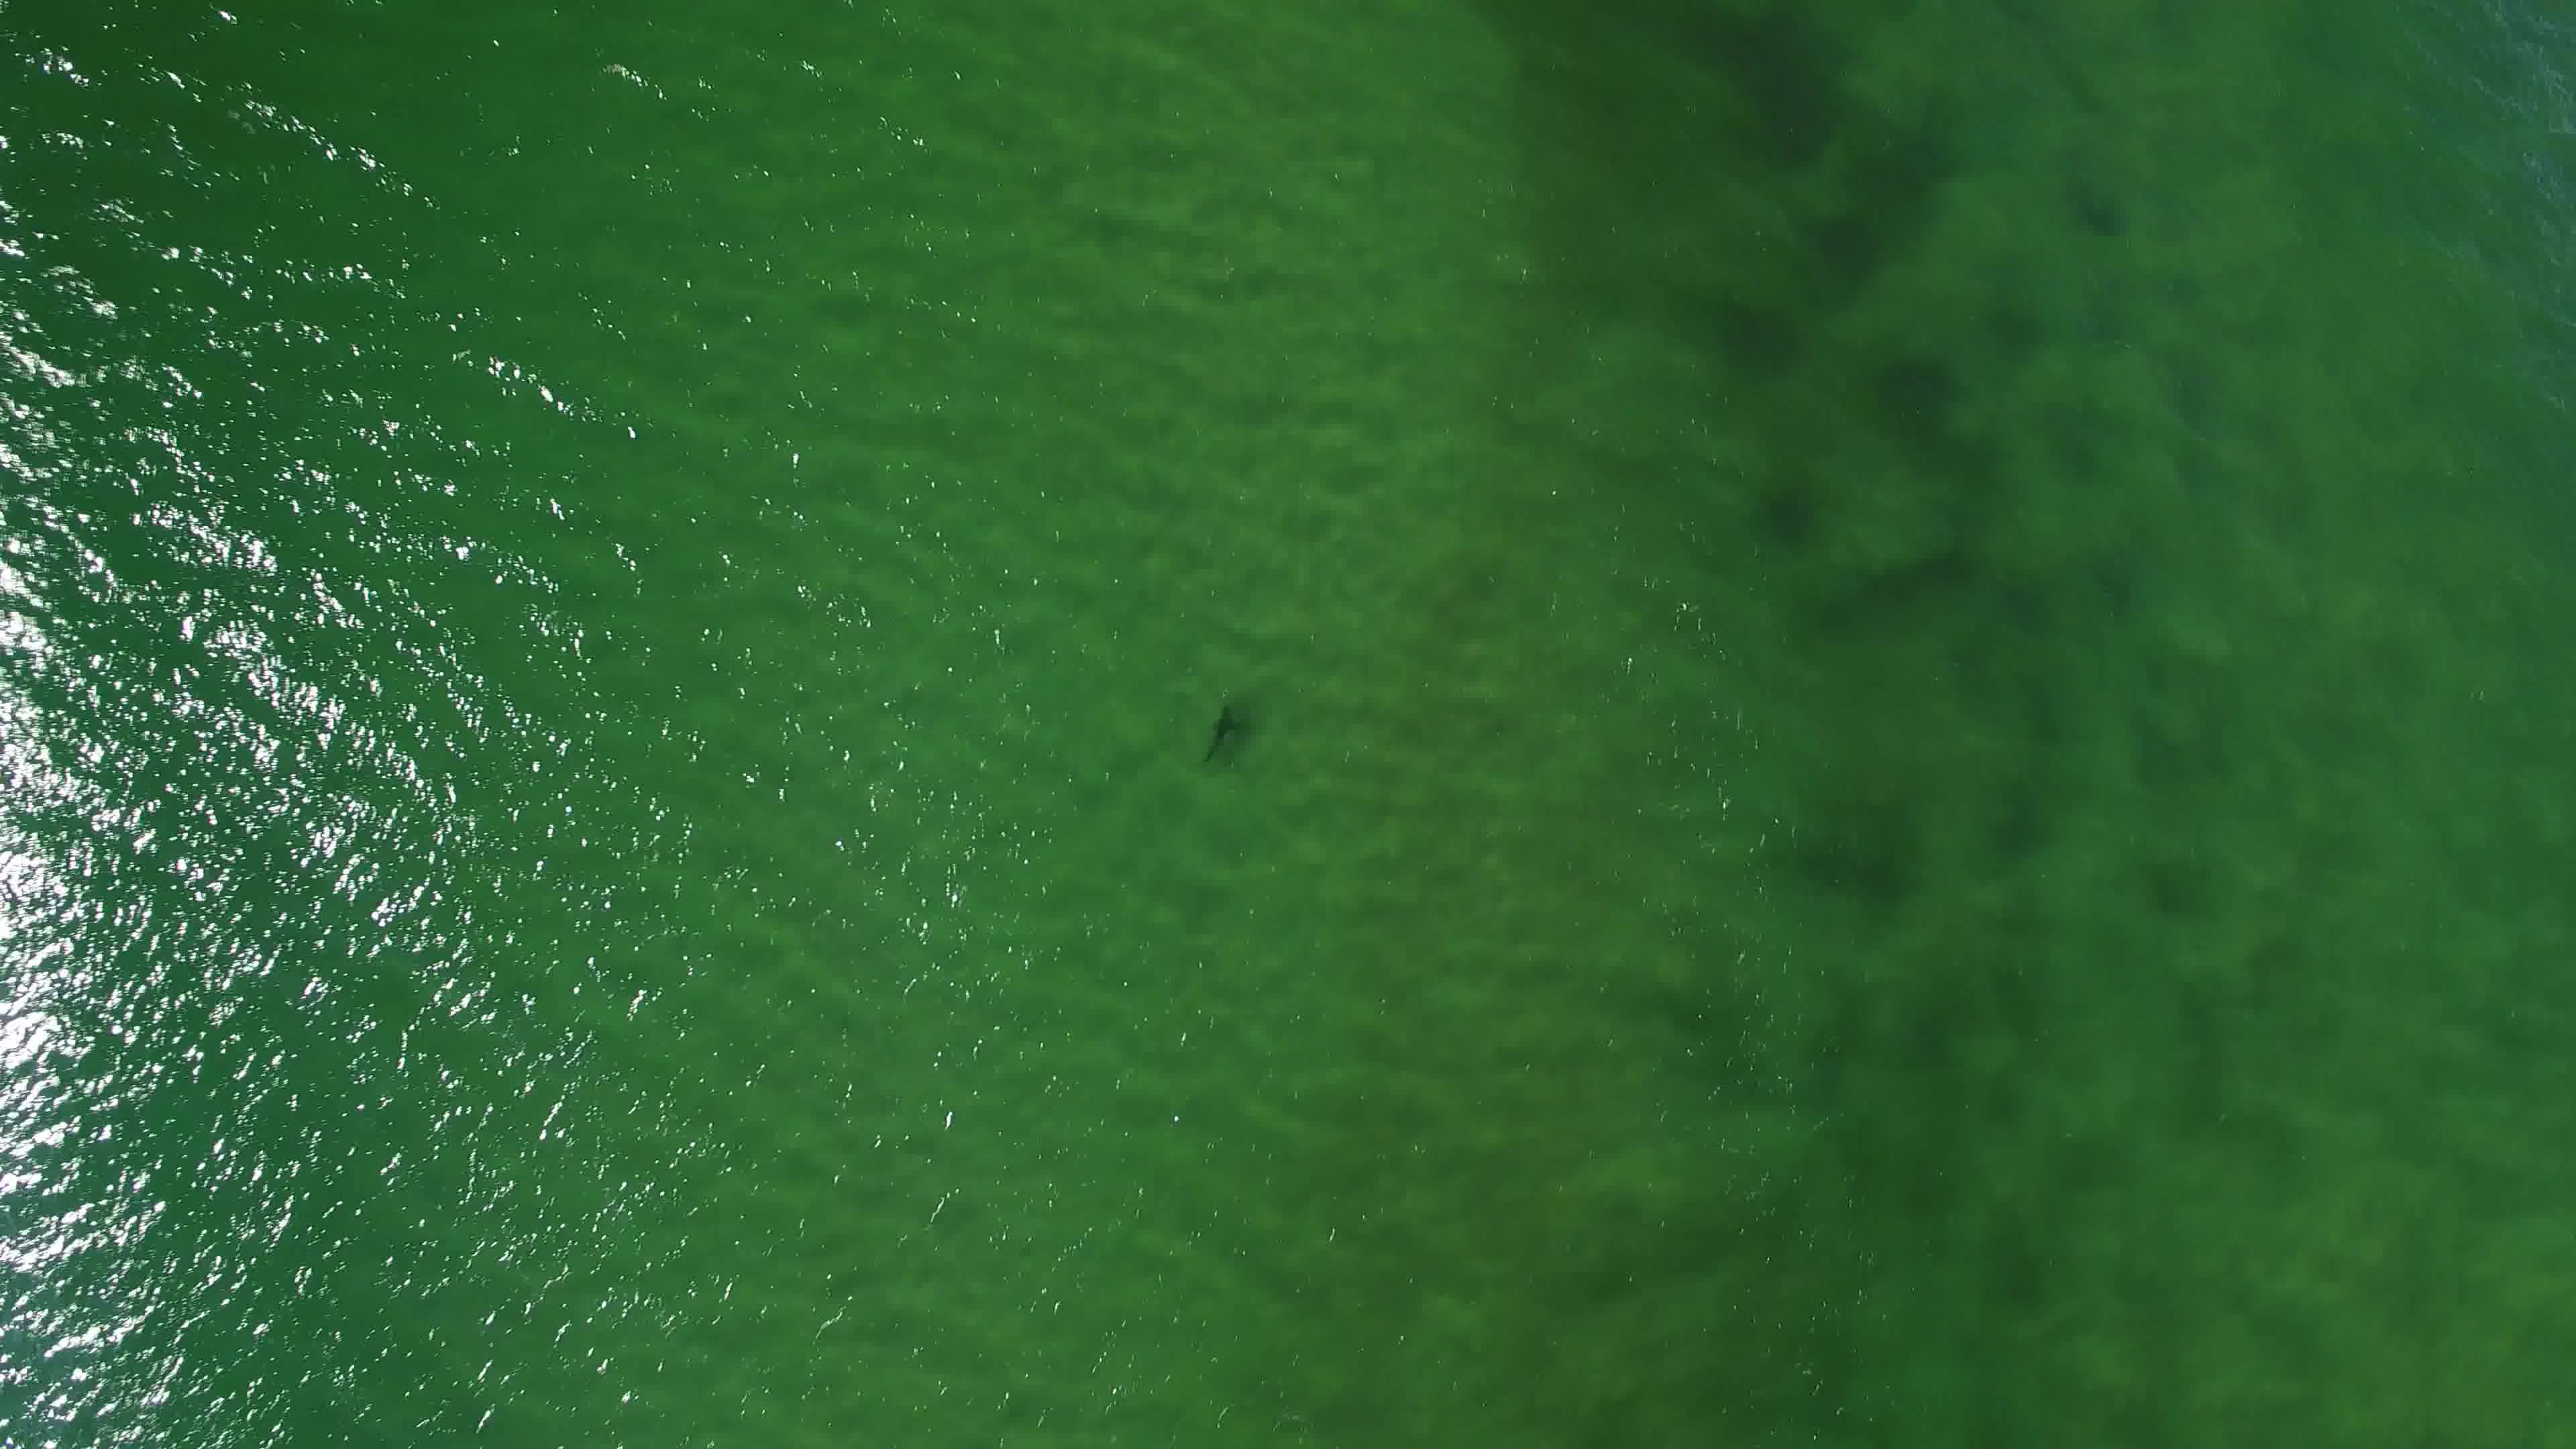shark: (1200, 702, 1244, 768)
